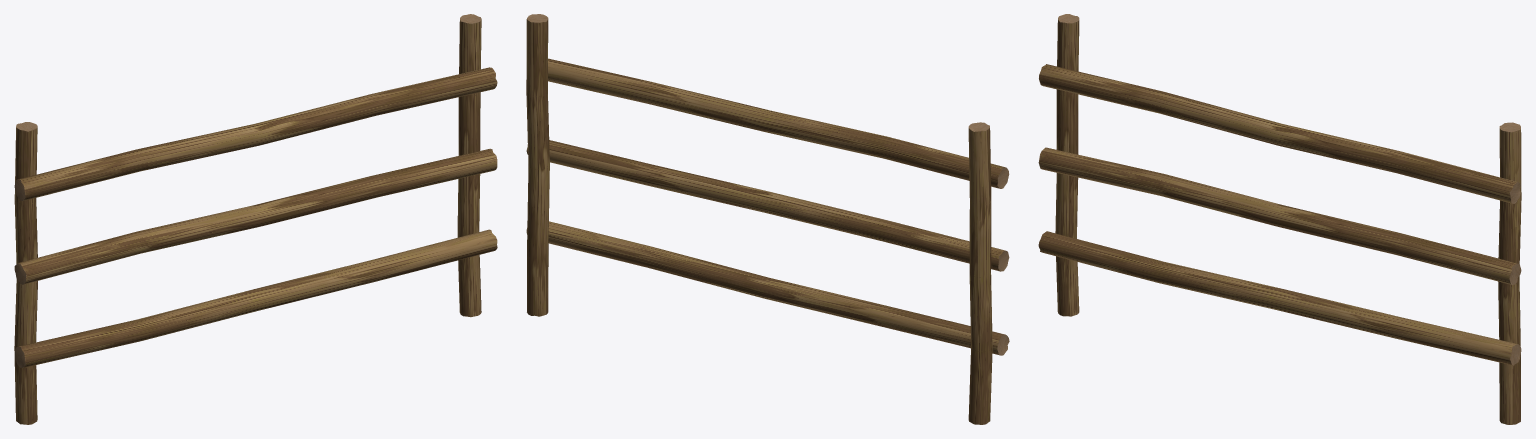
File: WoodFence.fbx
3 views of the same model, side by side, from view 1: azimuth 30°, elevation 25°; view 2: azimuth 150°, elevation 25°; view 3: azimuth 330°, elevation 25° (orthographic).
Parts seen in each view (by area): view 1: Model; view 2: Model; view 3: Model.
Boxes of the visible parts, left/top/right/bottom form: Model: left=14, top=14, right=497, bottom=424; Model: left=526, top=14, right=1009, bottom=424; Model: left=1038, top=14, right=1521, bottom=424.
Bounding box in the file's own units: 852 × 507 × 64.9.
